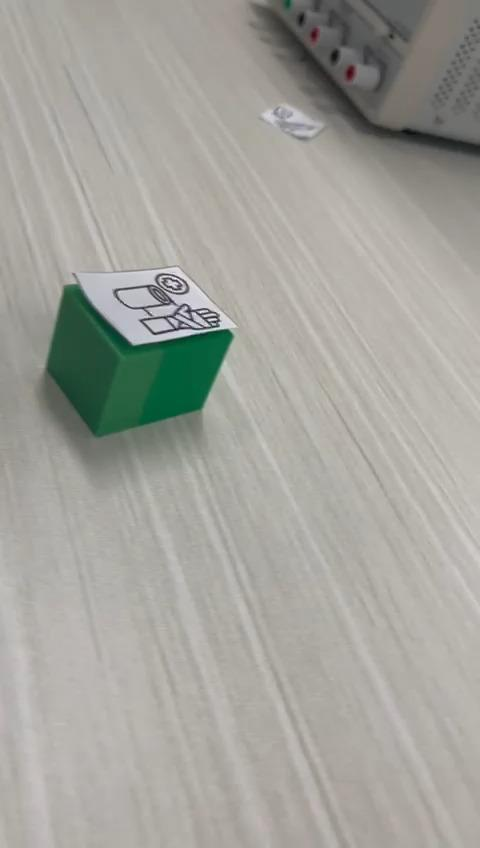Bandages: (47, 266, 238, 439)
